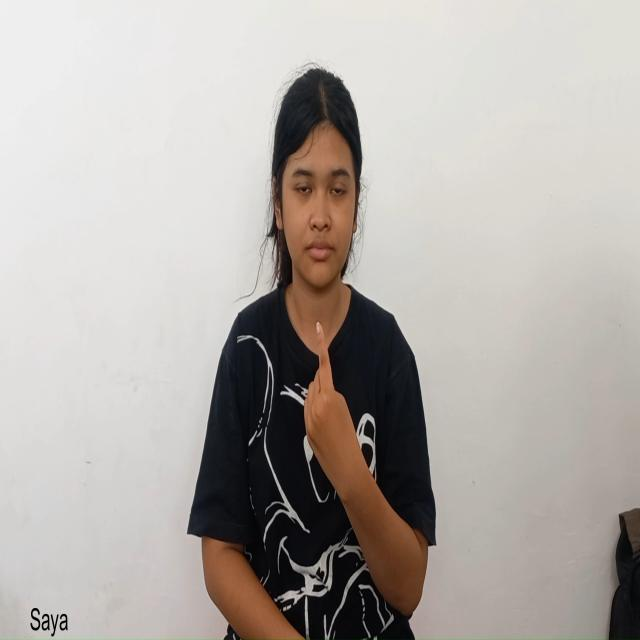Saya -BISINDO-: (298, 305, 436, 616)
